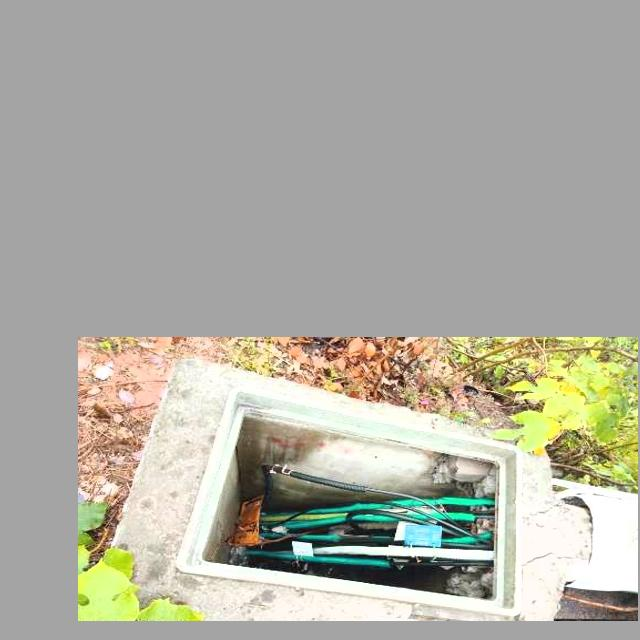lose: (175, 388, 522, 617)
